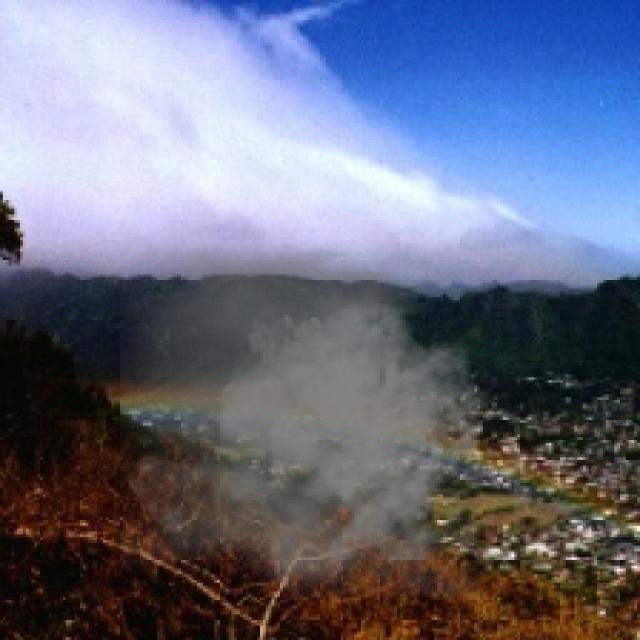smoke: (120, 246, 491, 600)
